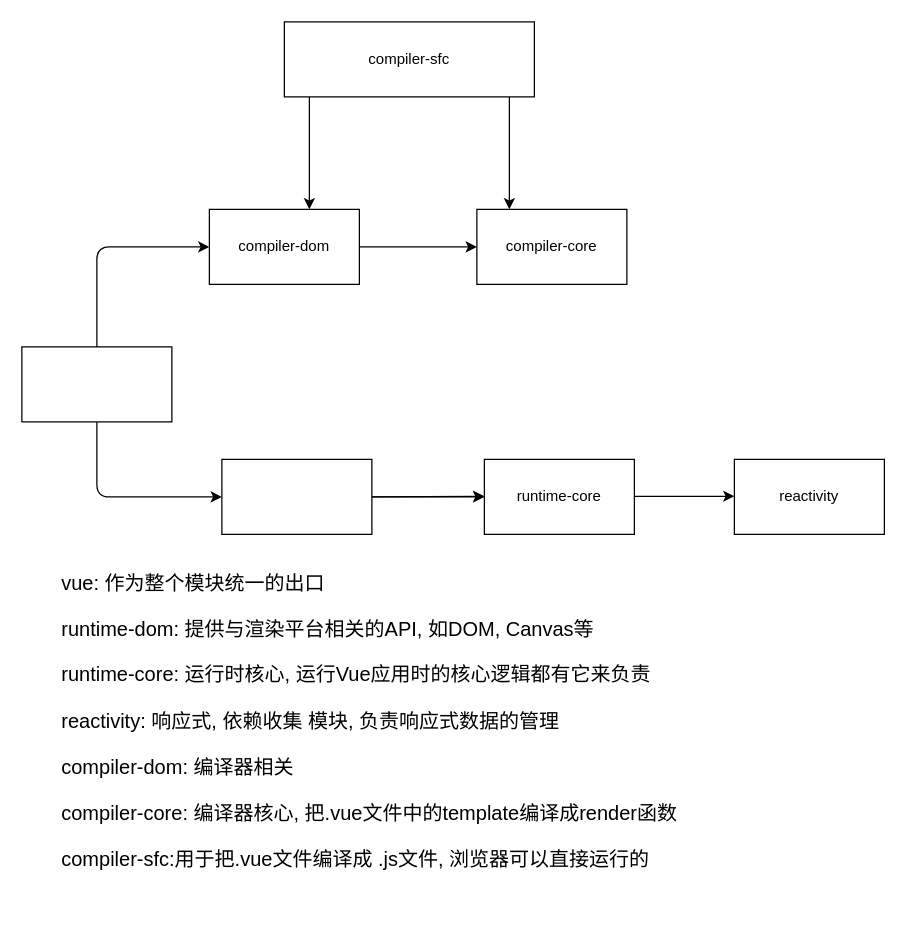
This 906x925 diagram has some shape labels left out. The shapes that lost their labels are listed below. From the top down, each one's centre as x and y in pixels, then its label:
At (96,384): "vue".
At (296,496): "runtime-dom".
